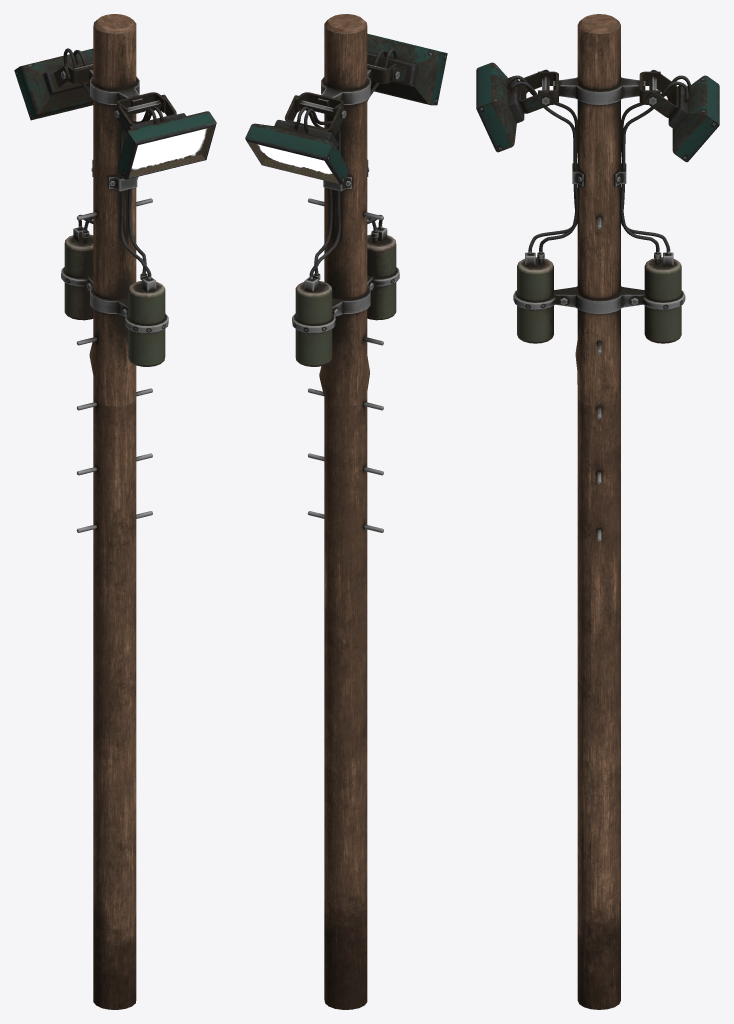
File: lampadaire-2.glb
3 renders of one model, left to right at view 1: azimuth 30°, elevation 25°; view 2: azimuth 150°, elevation 25°; view 3: azimuth 270°, elevation 25°, orthographic.
Parts seen in each view (by area): view 1: Cylinder_7; view 2: Cylinder_7; view 3: Cylinder_7.
Boxes of the visible parts, x1,y1,x2,y2 form: Cylinder_7: [14, 14, 216, 1009]; Cylinder_7: [245, 14, 447, 1009]; Cylinder_7: [476, 14, 719, 1009].
Size of the model in its own units: 0.4364 by 5 by 1.13.
1 material, 1 textured.
